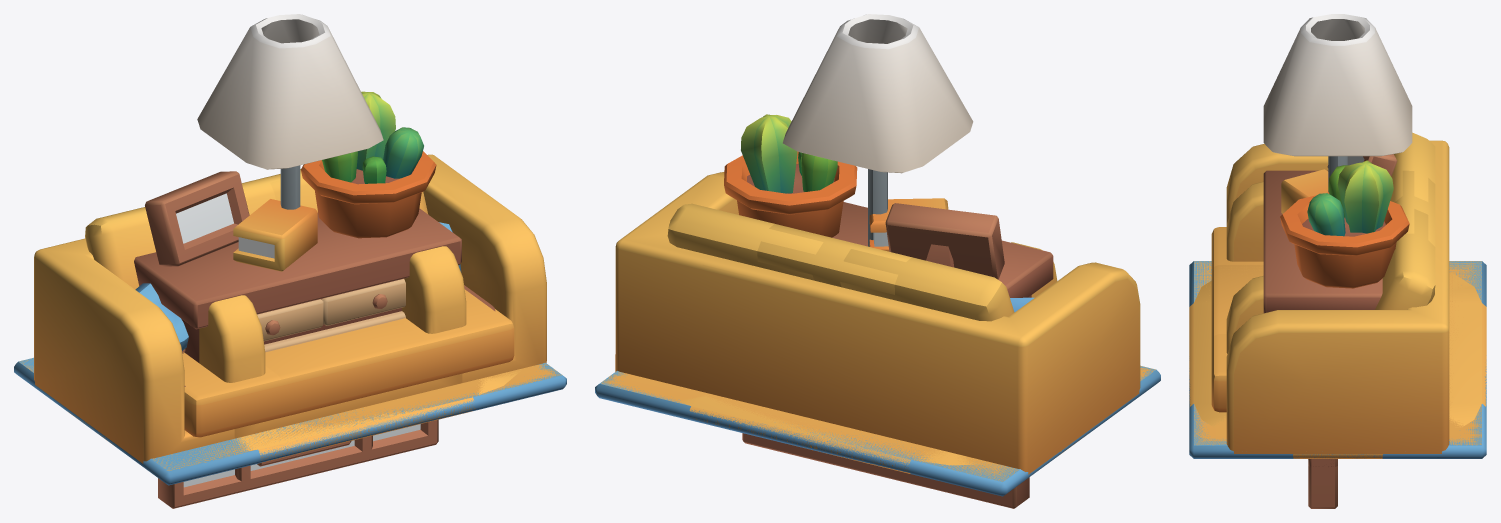
The model's file is furniture.glb.
The picture shows the model from 3 angles, left to right: view 1: azimuth 30°, elevation 25°; view 2: azimuth 150°, elevation 25°; view 3: azimuth 270°, elevation 25°; orthographic projection. The views are drawn at different scales.
Visible parts, largest first — view 1: couch_pillows, cabinet_medium_decorated, lamp_standing, armchair_pillows, rug_rectangle_B, pictureframe_large_B, rug_rectangle_stripes_A, rug_oval_A, pictureframe_large_A; view 2: couch_pillows, lamp_standing, cabinet_medium_decorated, rug_rectangle_B, rug_rectangle_stripes_A, armchair_pillows, rug_oval_A, pictureframe_large_B, pictureframe_large_A; view 3: couch_pillows, cabinet_medium_decorated, lamp_standing, rug_oval_A, armchair_pillows, rug_rectangle_B, rug_rectangle_stripes_A, pictureframe_large_B.
Part boxes in pixels (x1,y1,x2,y2): couch_pillows: [34, 154, 546, 463]; cabinet_medium_decorated: [134, 91, 461, 362]; lamp_standing: [197, 14, 383, 209]; armchair_pillows: [199, 170, 466, 438]; rug_rectangle_B: [14, 357, 566, 485]; pictureframe_large_B: [158, 349, 438, 508]; rug_rectangle_stripes_A: [19, 358, 561, 470]; rug_oval_A: [68, 369, 521, 462]; pictureframe_large_A: [235, 435, 372, 490]; couch_pillows: [615, 172, 1140, 474]; lamp_standing: [783, 14, 973, 246]; cabinet_medium_decorated: [724, 114, 1053, 297]; rug_rectangle_B: [595, 365, 1160, 496]; rug_rectangle_stripes_A: [601, 366, 1155, 481]; armchair_pillows: [702, 224, 1057, 322]; rug_oval_A: [678, 394, 1084, 473]; pictureframe_large_B: [742, 433, 1029, 508]; pictureframe_large_A: [810, 450, 943, 490]; couch_pillows: [1211, 132, 1449, 453]; cabinet_medium_decorated: [1263, 154, 1409, 313]; lamp_standing: [1263, 14, 1412, 192]; rug_oval_A: [1189, 272, 1486, 458]; armchair_pillows: [1214, 170, 1448, 353]; rug_rectangle_B: [1189, 261, 1486, 458]; rug_rectangle_stripes_A: [1194, 261, 1481, 445]; pictureframe_large_B: [1308, 459, 1337, 508].
Bounding box in the file's own units: 3 × 3.12 × 2.
1 material, 1 textured.
